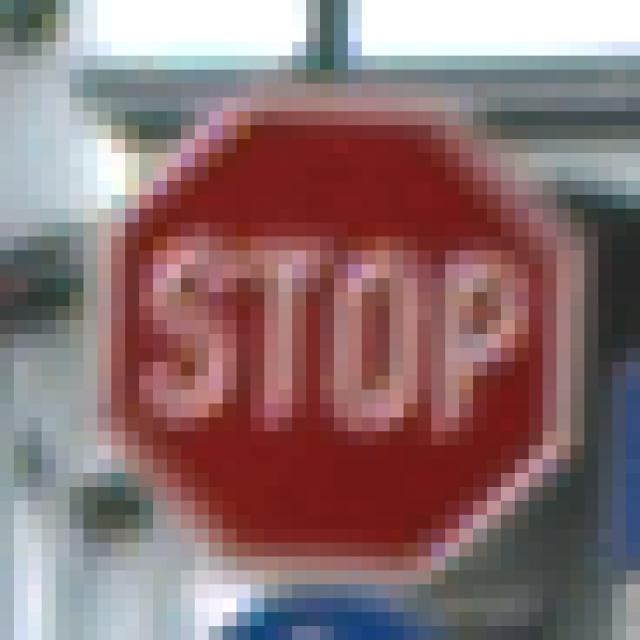STOP: (85, 71, 572, 572)
